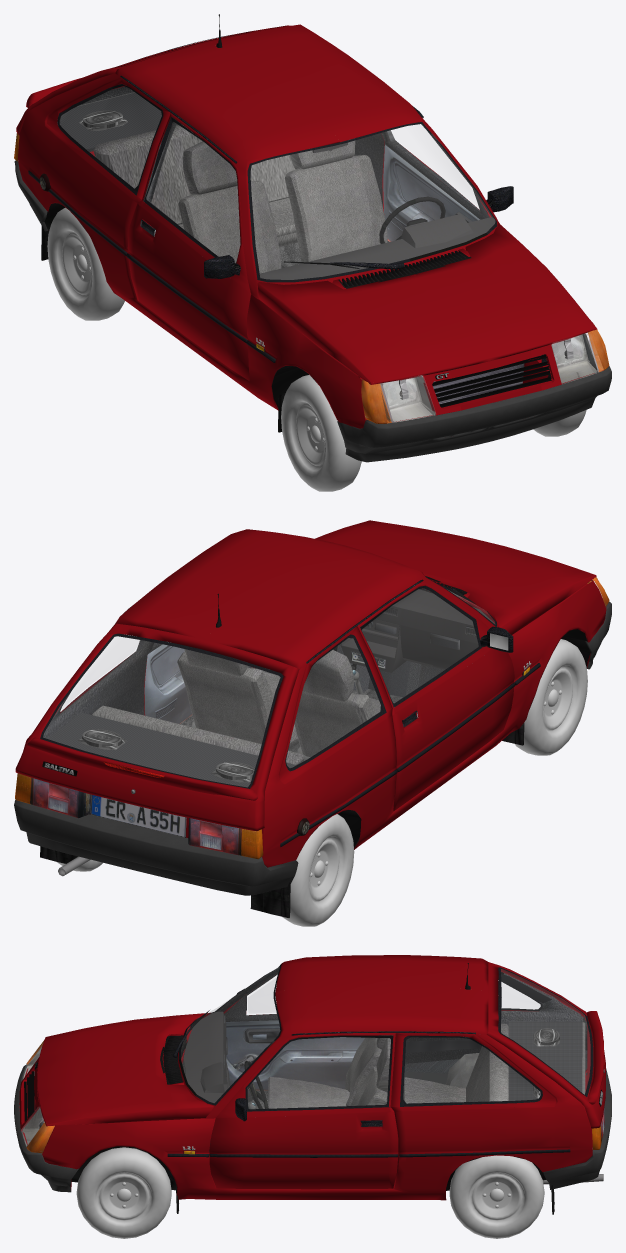
The model's file is Car.fbx.
3 renders of one model, top to bottom at view 1: azimuth 30°, elevation 25°; view 2: azimuth 150°, elevation 25°; view 3: azimuth 270°, elevation 25°, orthographic. The views are drawn at different scales.
Visible parts, largest first — view 1: chassis, salon, bonnet_ok, windscreen_ok, door_rf_ok, bump_front_ok, Quad_Wheel.003, door_lf_ok, Quad_Wheel.002, Plane, stekla_far, per_fari (+4 smaller); view 2: chassis, Boot, salon, door_rf_ok, bonnet_ok, bump_rear_ok, Quad_Wheel.002, Quad_Wheel.003, fari_zad, door_lf_ok, brizgov, bump_front_ok; view 3: chassis, door_lf_ok, salon, bonnet_ok, Boot, Quad_Wheel, door_rf_ok, Quad_Wheel.001, windscreen_ok, bump_rear_ok, bump_front_ok, stekla_far (+2 smaller).
Part boxes in pixels (box(x1,y1,x2,y2)): chassis: box(18, 14, 603, 428); salon: box(60, 92, 495, 391); bonnet_ok: box(257, 223, 597, 384); windscreen_ok: box(251, 124, 494, 279); door_rf_ok: box(126, 113, 251, 381); bump_front_ok: box(337, 366, 611, 462); Quad_Wheel.003: box(281, 374, 361, 491); door_lf_ok: box(381, 118, 513, 241); Quad_Wheel.002: box(47, 207, 124, 320); Plane: box(423, 344, 561, 415); stekla_far: box(361, 324, 609, 423); per_fari: box(361, 332, 603, 423); chassis: box(43, 529, 606, 867); Boot: box(15, 623, 299, 831); salon: box(47, 589, 495, 787); door_rf_ok: box(357, 582, 514, 811); bonnet_ok: box(315, 520, 596, 634); bump_rear_ok: box(14, 800, 298, 895); Quad_Wheel.002: box(282, 814, 354, 926); Quad_Wheel.003: box(515, 639, 587, 755); fari_zad: box(15, 773, 263, 859); door_lf_ok: box(144, 640, 253, 723); brizgov: box(40, 723, 524, 917); bump_front_ok: box(585, 601, 611, 669); chassis: box(19, 955, 592, 1200); door_lf_ok: box(209, 1033, 398, 1189); salon: box(182, 1011, 585, 1151); bonnet_ok: box(37, 1012, 213, 1126); Boot: box(486, 962, 605, 1128); Quad_Wheel: box(76, 1147, 171, 1238); door_rf_ok: box(223, 973, 364, 1090); Quad_Wheel.001: box(449, 1155, 544, 1238); windscreen_ok: box(181, 968, 279, 1102); bump_rear_ok: box(543, 1068, 611, 1189); bump_front_ok: box(14, 1064, 78, 1192); stekla_far: box(21, 1040, 54, 1153).
Size of the model in its own units: 193 by 171 by 404.
